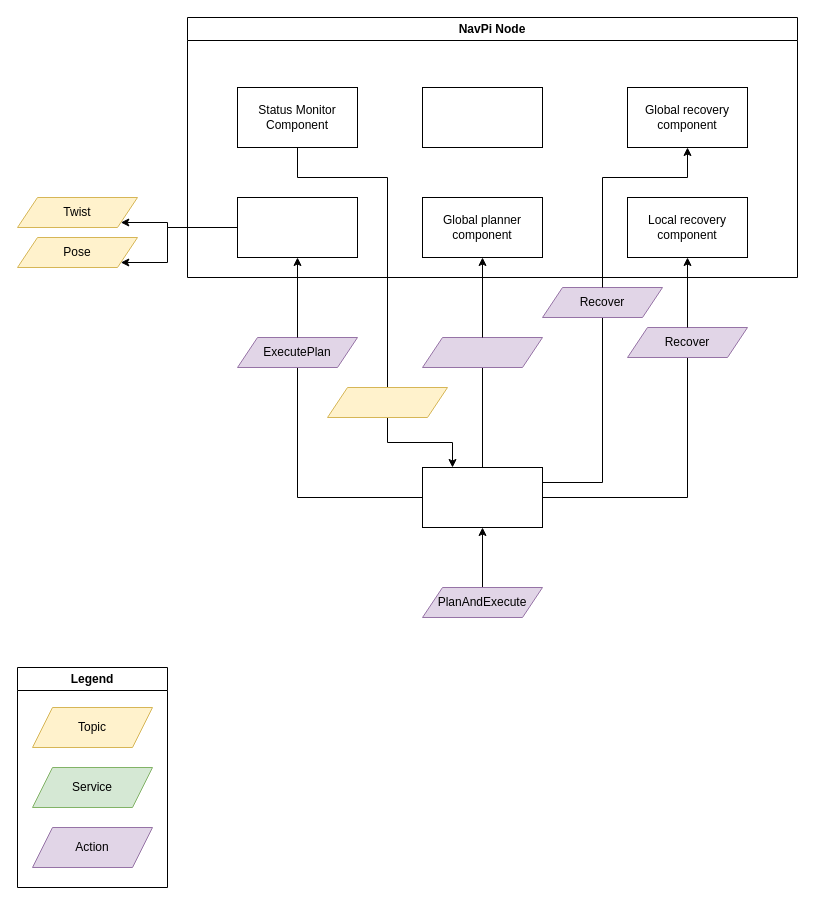
Some shapes in this 815 by 905 pixel diagram are drawn without their labels. Here are the shapes that lost their labels. From the top down, the centre of each, then its label:
At point 482,117: "Mapping component (vdb_mapping_ros)".
At point 297,227: "Local planner component".
At point 482,352: "GetPlan".
At point 387,402: "ExecutionStatus".
At point 482,497: "NavPi Coordinator".
